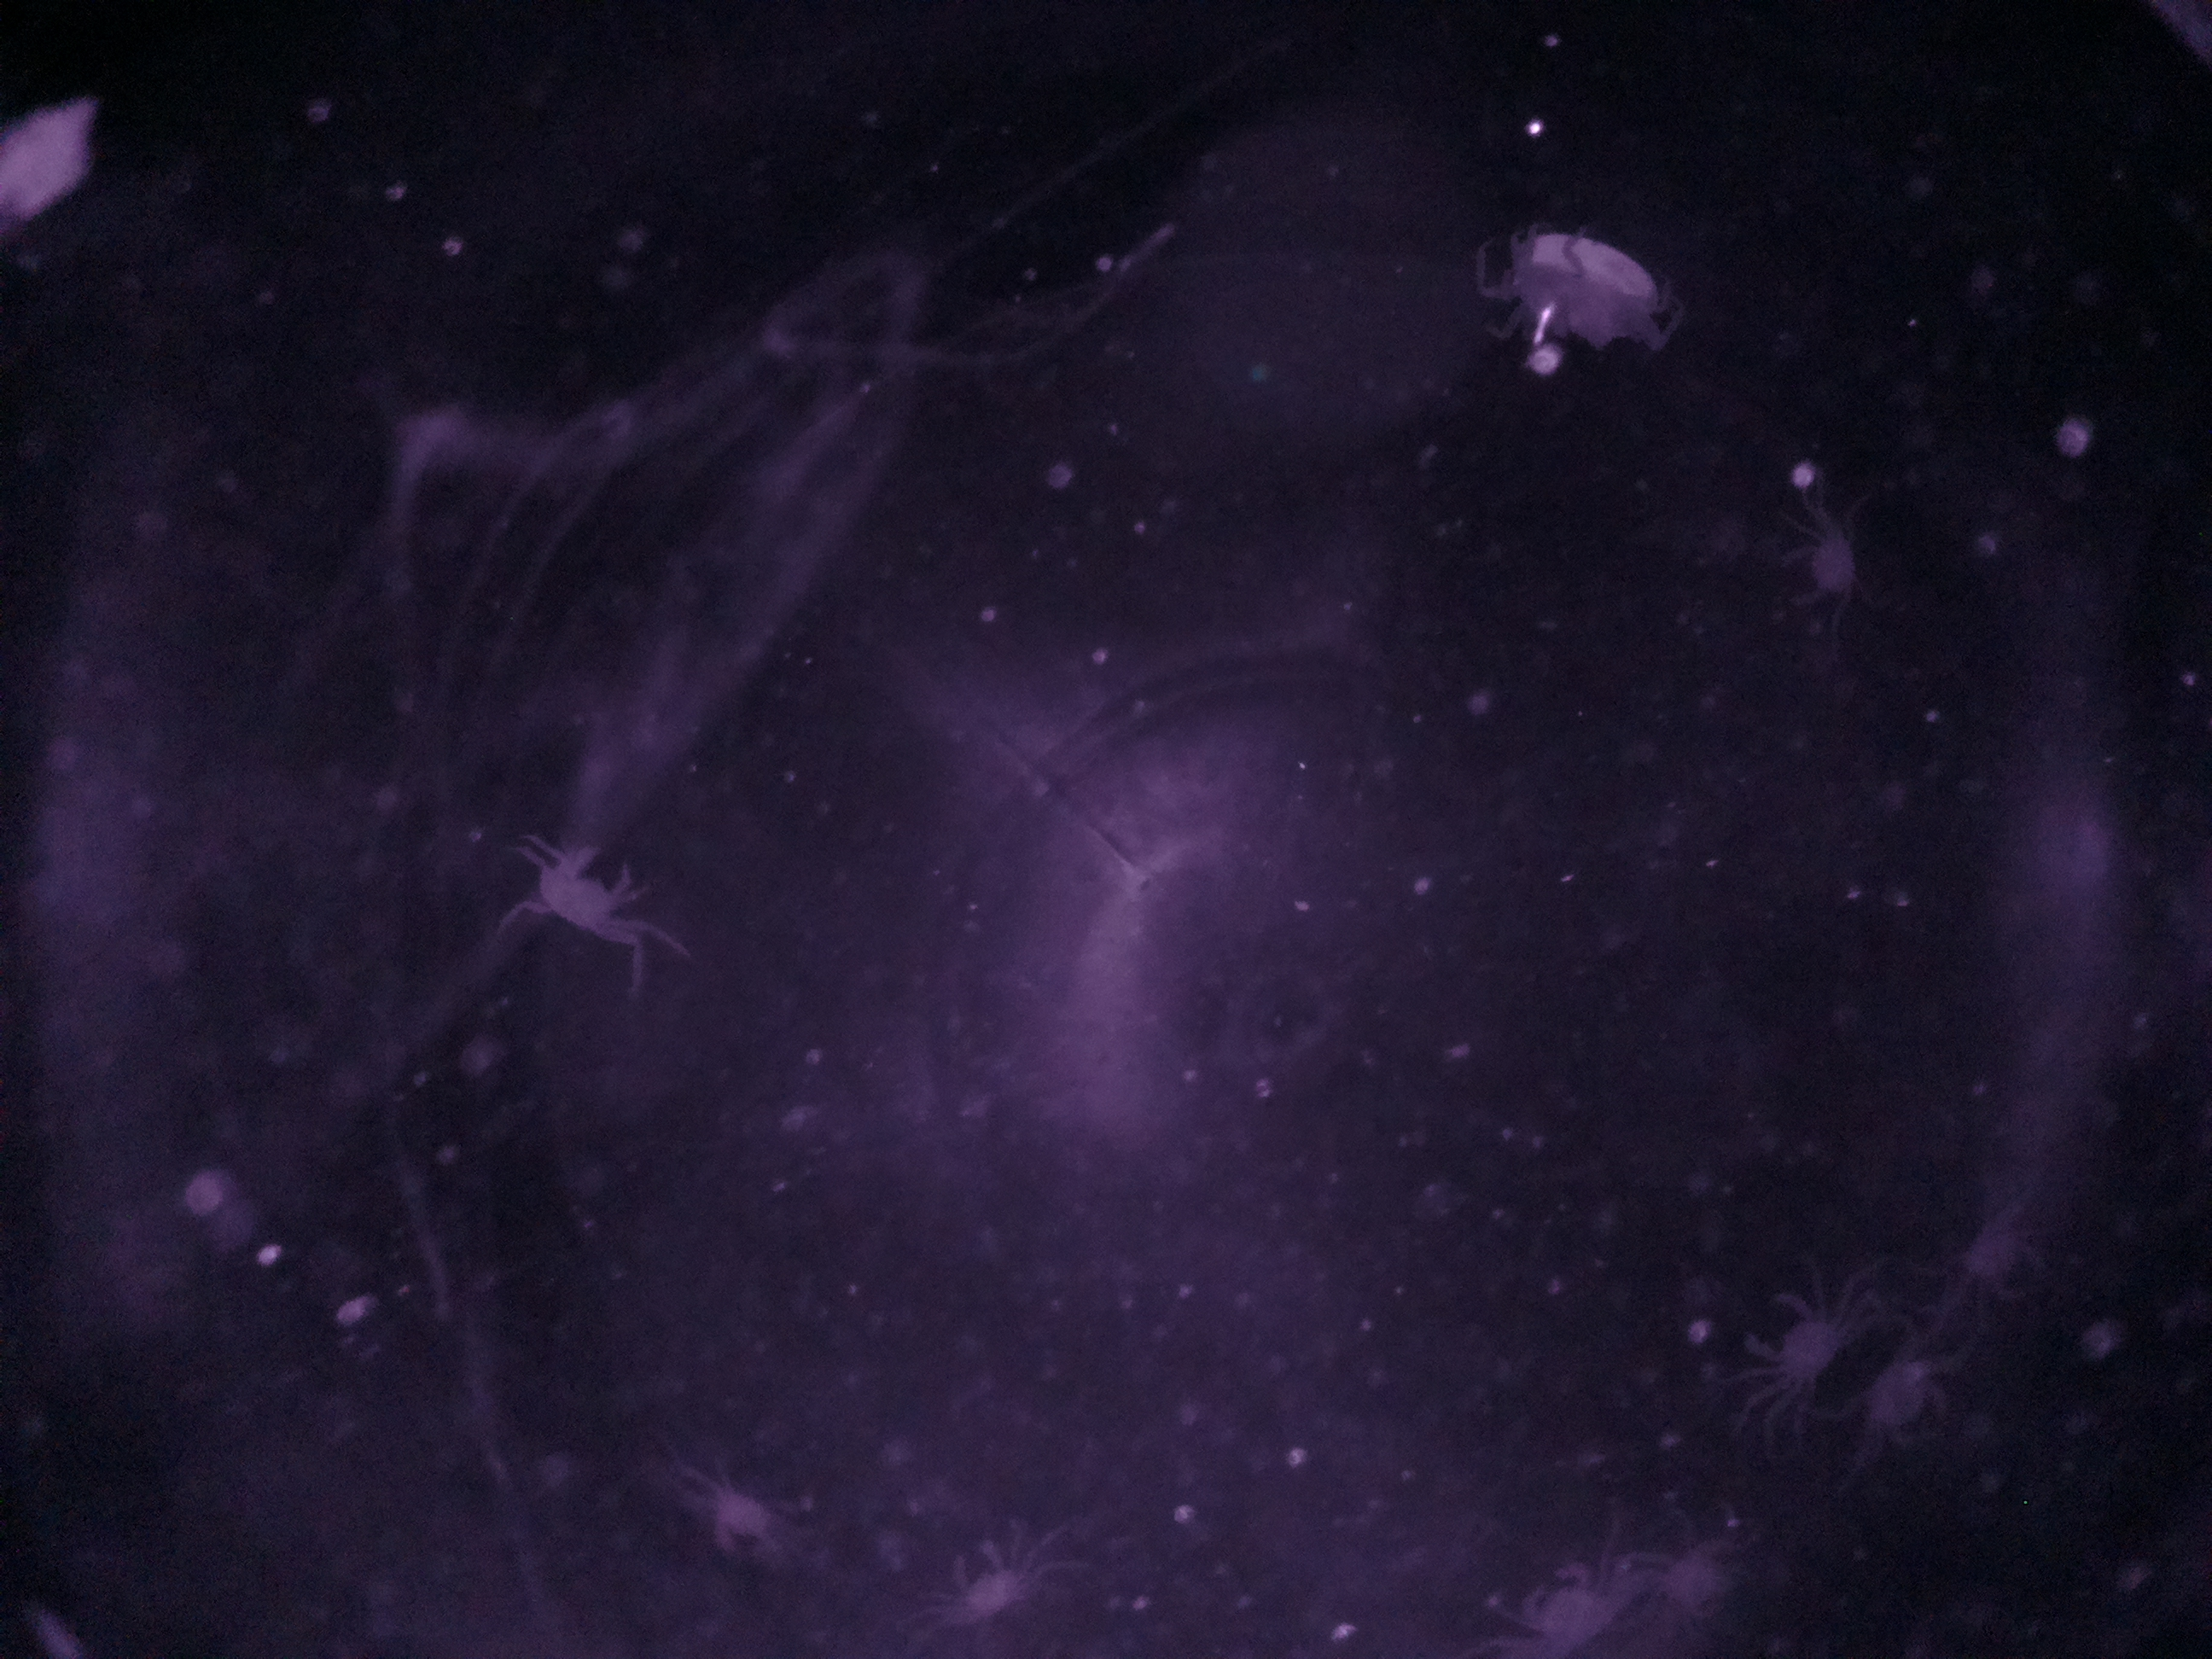Crab: (1728, 1265, 1853, 1420), (1501, 1535, 1629, 1656), (1757, 509, 1893, 619)
